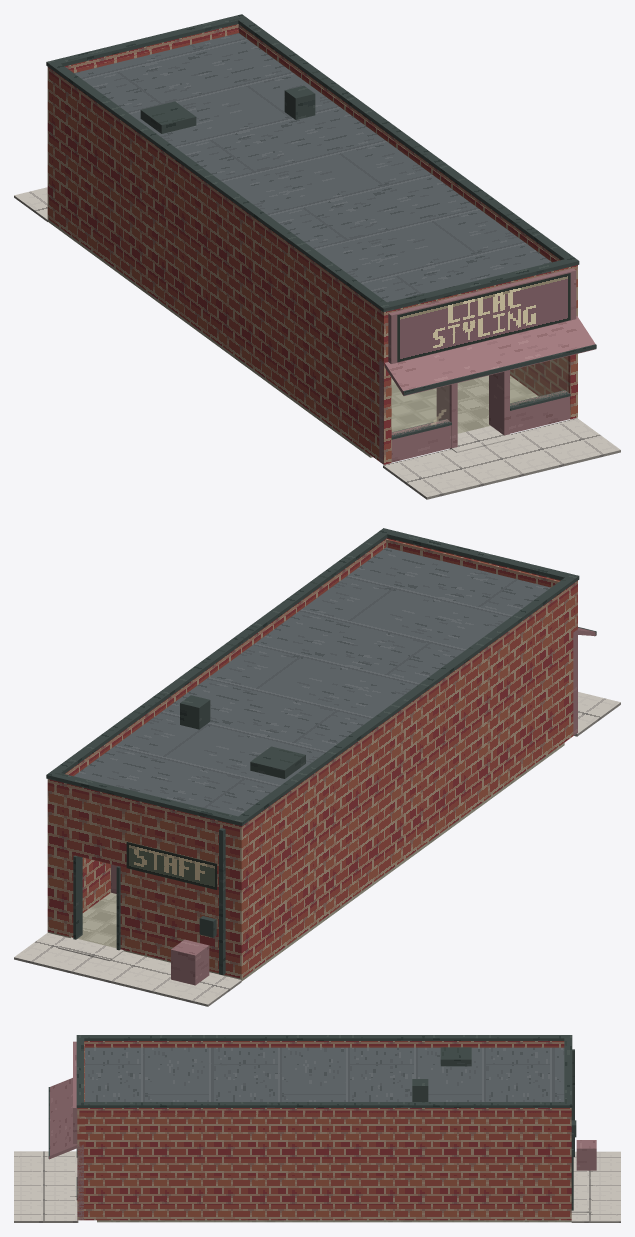
The model's file is salon-1980-far.glb.
The picture shows the model from 3 angles, top to bottom: view 1: azimuth 30°, elevation 25°; view 2: azimuth 150°, elevation 25°; view 3: azimuth 270°, elevation 25°; orthographic projection. The views are drawn at different scales.
Visible parts, largest first — view 1: shell, lot, sign_name, fixed_interior; view 2: shell, lot, fixed_interior, sign_staff; view 3: shell, lot, fixed_interior.
Part boxes in pixels (<box>): shell: <box>46,14,596,464</box>; lot: <box>14,187,620,499</box>; sign_name: <box>397,273,570,362</box>; fixed_interior: <box>47,219,538,457</box>; shell: <box>46,528,596,978</box>; lot: <box>14,692,620,1006</box>; fixed_interior: <box>47,743,564,981</box>; sign_staff: <box>126,842,216,889</box>; shell: <box>48,1035,591,1220</box>; lot: <box>14,1140,620,1222</box>; fixed_interior: <box>97,1220,571,1222</box>.
Size of what is drawn, in the model's own units: 6.05 by 4.99 by 22.1.
Materials: 9 (9 with a texture image).
